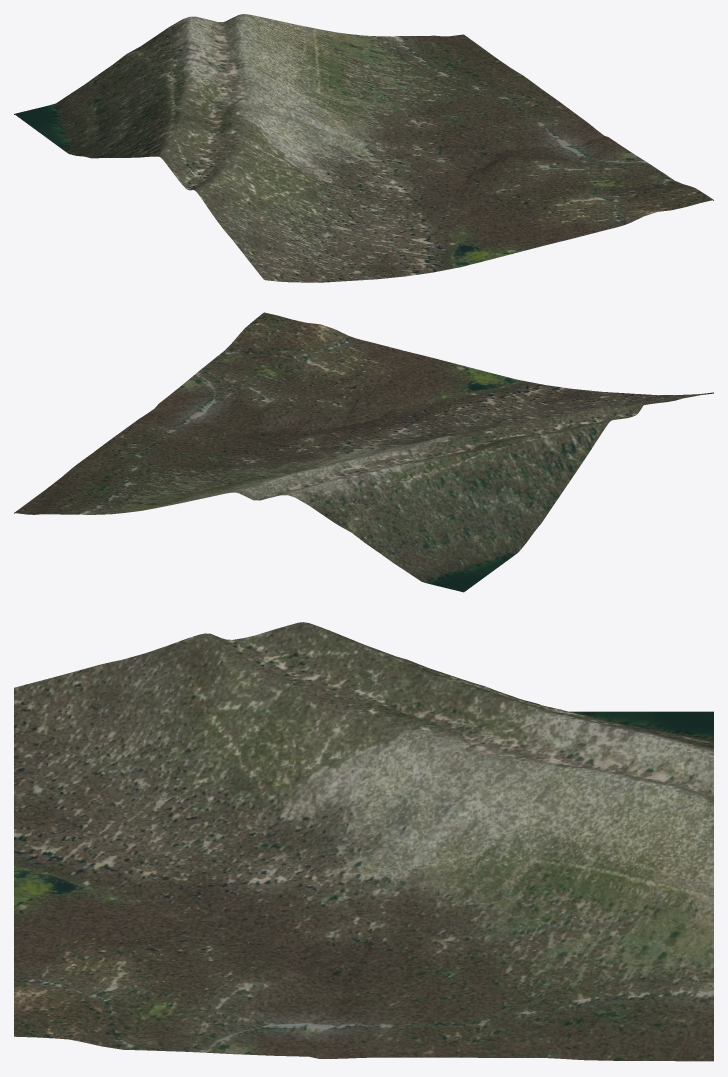
3 views of the same model, one above another, from view 1: azimuth 30°, elevation 25°; view 2: azimuth 150°, elevation 25°; view 3: azimuth 270°, elevation 25° (orthographic). The views are drawn at different scales.
Size of the model in its own units: 1000 by 202 by 963.
1 material, 1 textured.
